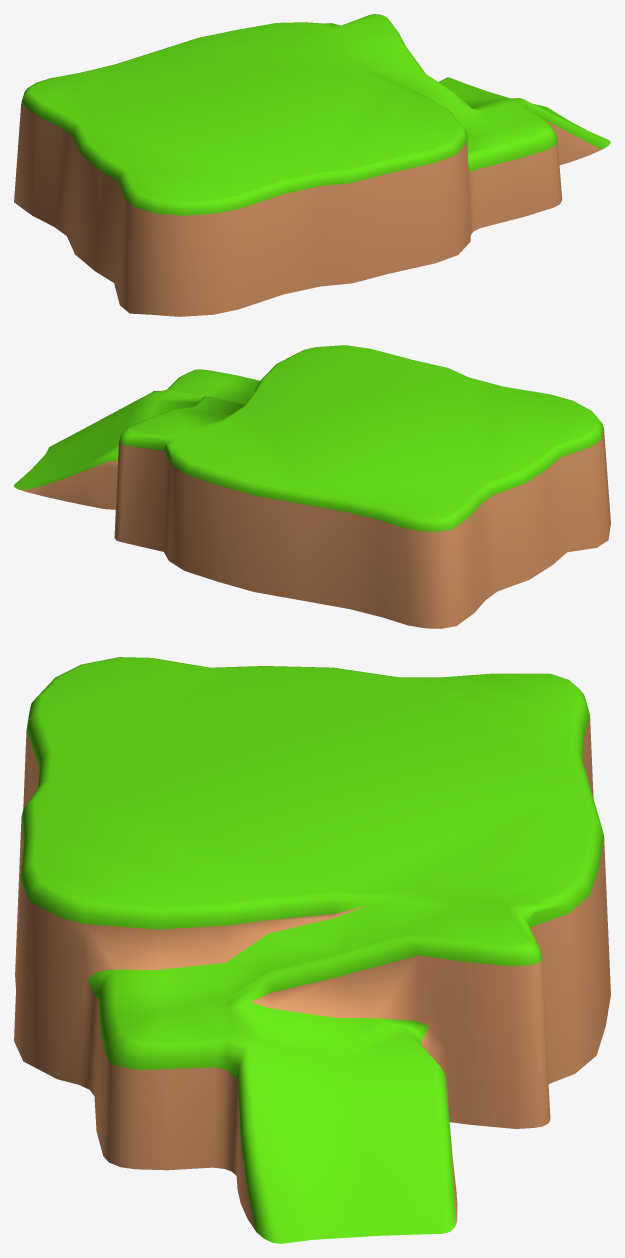
The model's file is Island_1.fbx.
3 views of the same model, one above another, from view 1: azimuth 30°, elevation 25°; view 2: azimuth 150°, elevation 25°; view 3: azimuth 270°, elevation 25° (orthographic). The views are drawn at different scales.
Visible parts, largest first — view 1: Island_1; view 2: Island_1; view 3: Island_1.
Boxes of the visible parts, x1,y1,x2,y2 form: Island_1: [14, 14, 610, 316]; Island_1: [14, 345, 610, 628]; Island_1: [14, 657, 610, 1243].
Size of the model in its own units: 60.85 by 12.54 by 36.54.
